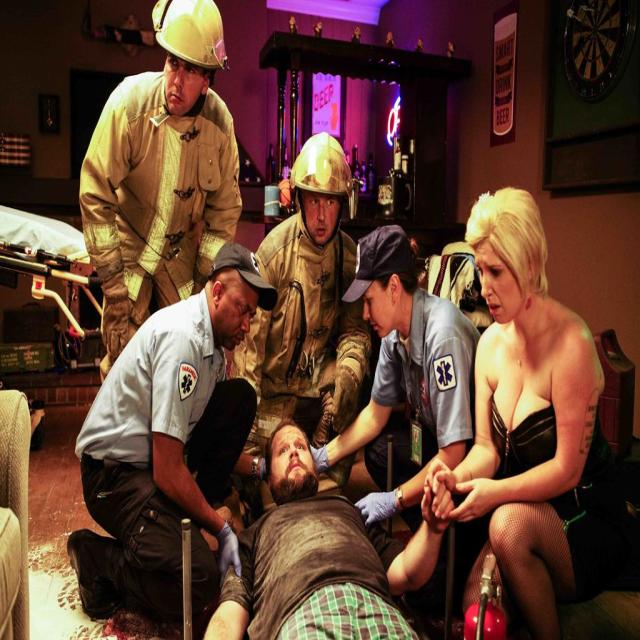Hat: (339, 222, 417, 302), (208, 240, 276, 312)
